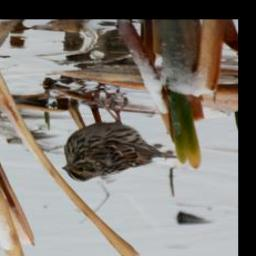Sparrow: (60, 95, 178, 184)
